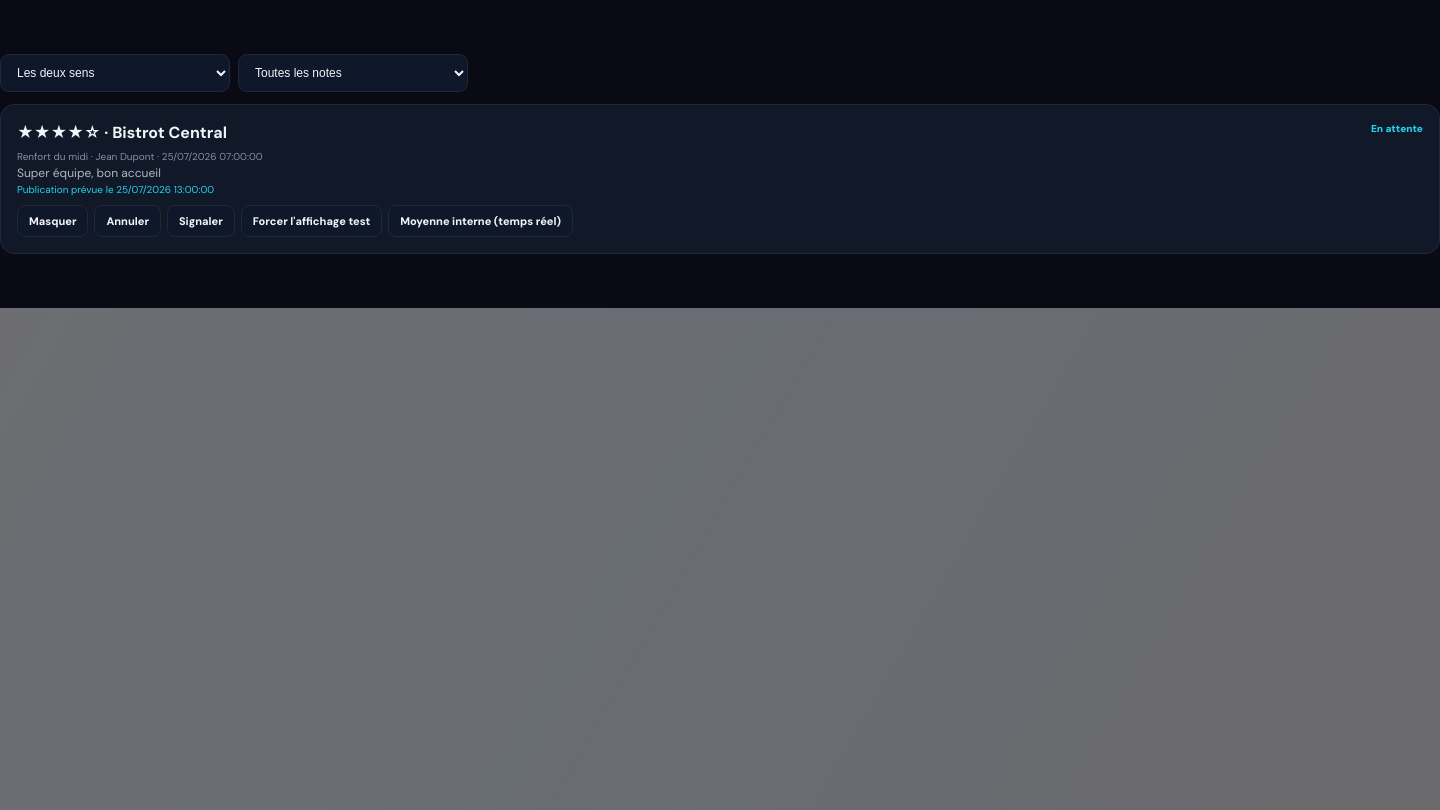
Test: FounderRatingsPanel › recalcule la moyenne interne en temps réel à la demande
Click the button "Moyenne interne (temps réel)": (481, 221) [388,205,573,237]
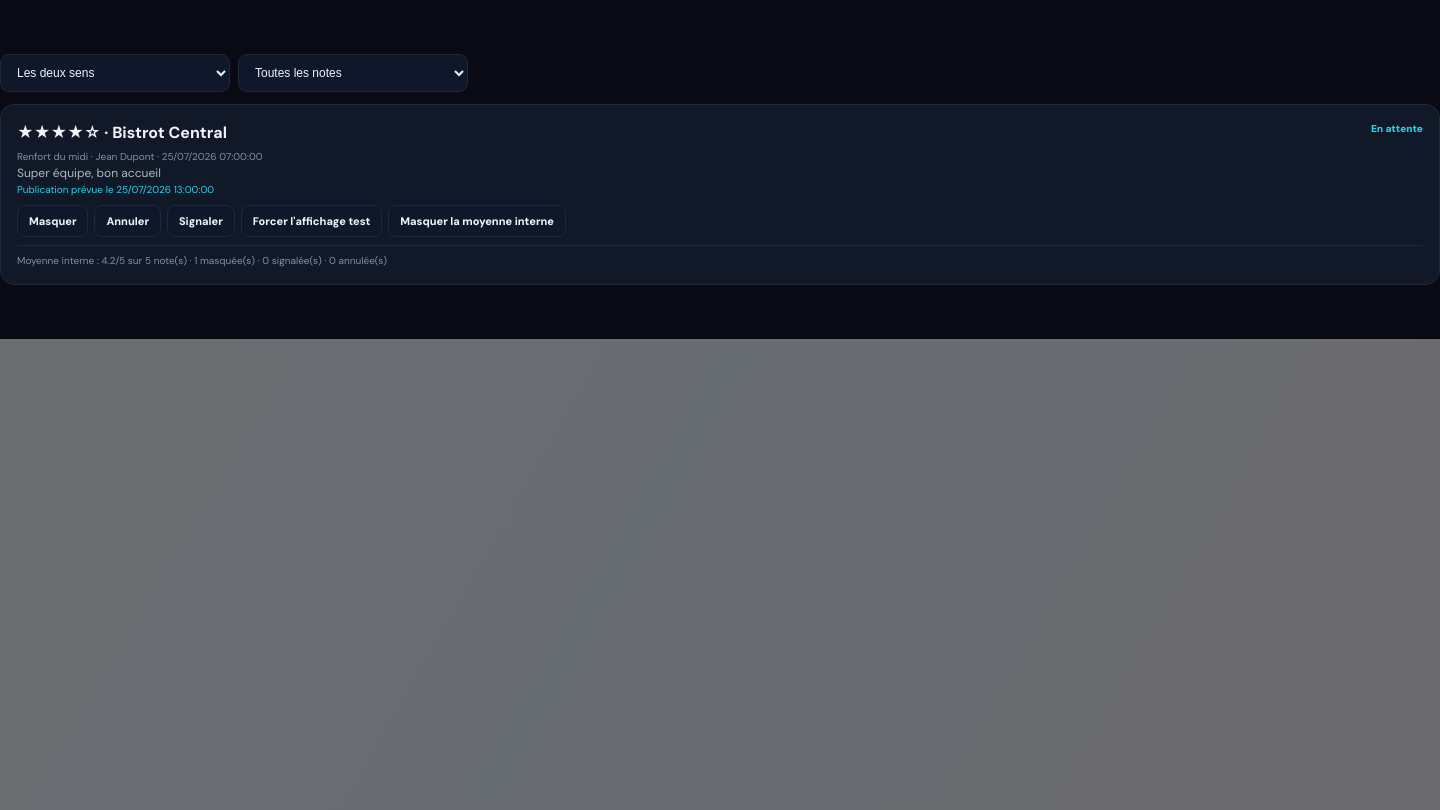
Now the text "Moyenne interne : 4.2/5 sur 5 note(s)" is shown, box [17,245,1423,268]
